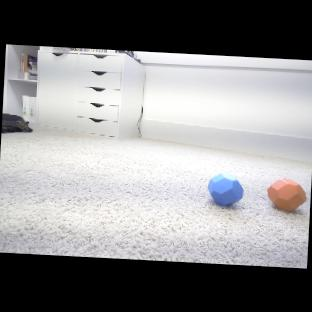V5_BLUE: (207, 172, 244, 207)
V5_RED: (265, 178, 307, 212)
